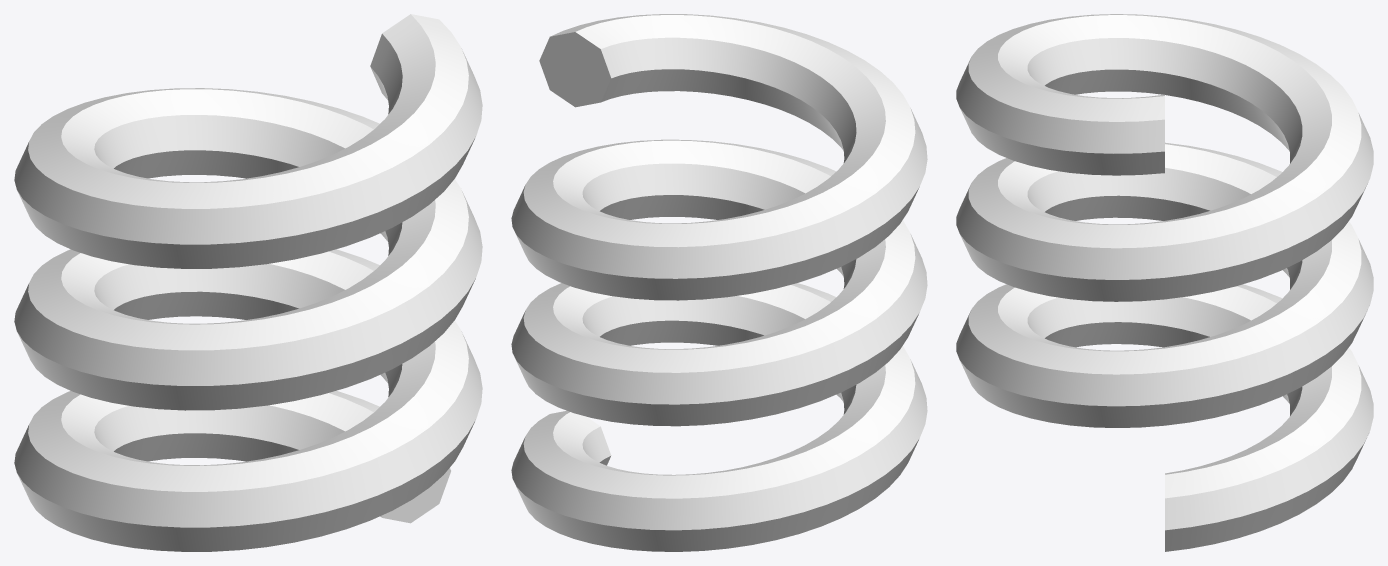
File: helix.obj
The picture shows the model from 3 angles, left to right: view 1: azimuth 30°, elevation 25°; view 2: azimuth 150°, elevation 25°; view 3: azimuth 270°, elevation 25°; orthographic projection. The views are drawn at different scales.
Bounding box in the file's own units: 2 × 2.4 × 2.
